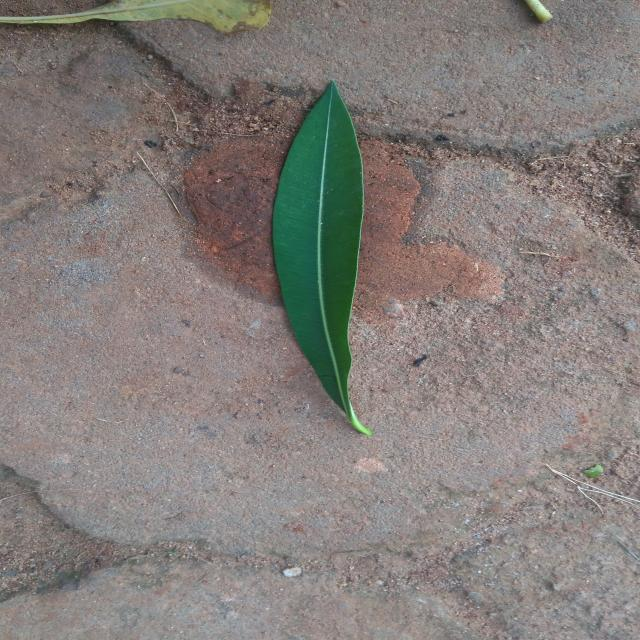ganigale: (273, 81, 371, 435)
